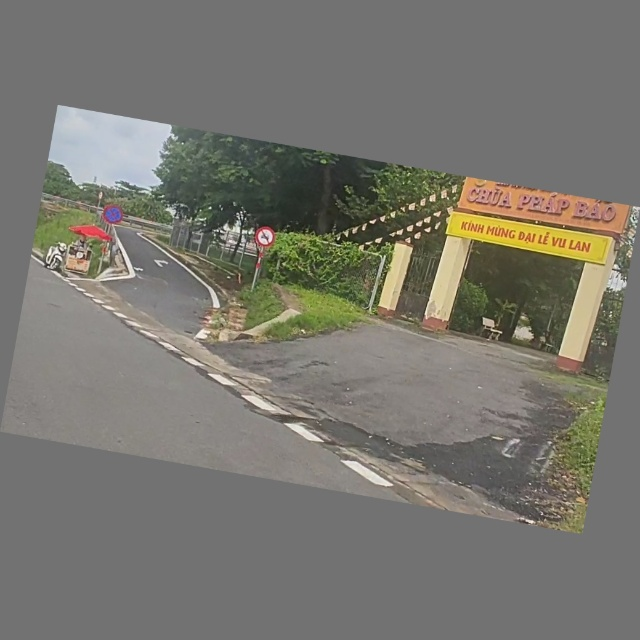P.103a: (253, 225, 277, 250)
P.130: (101, 205, 125, 227)
